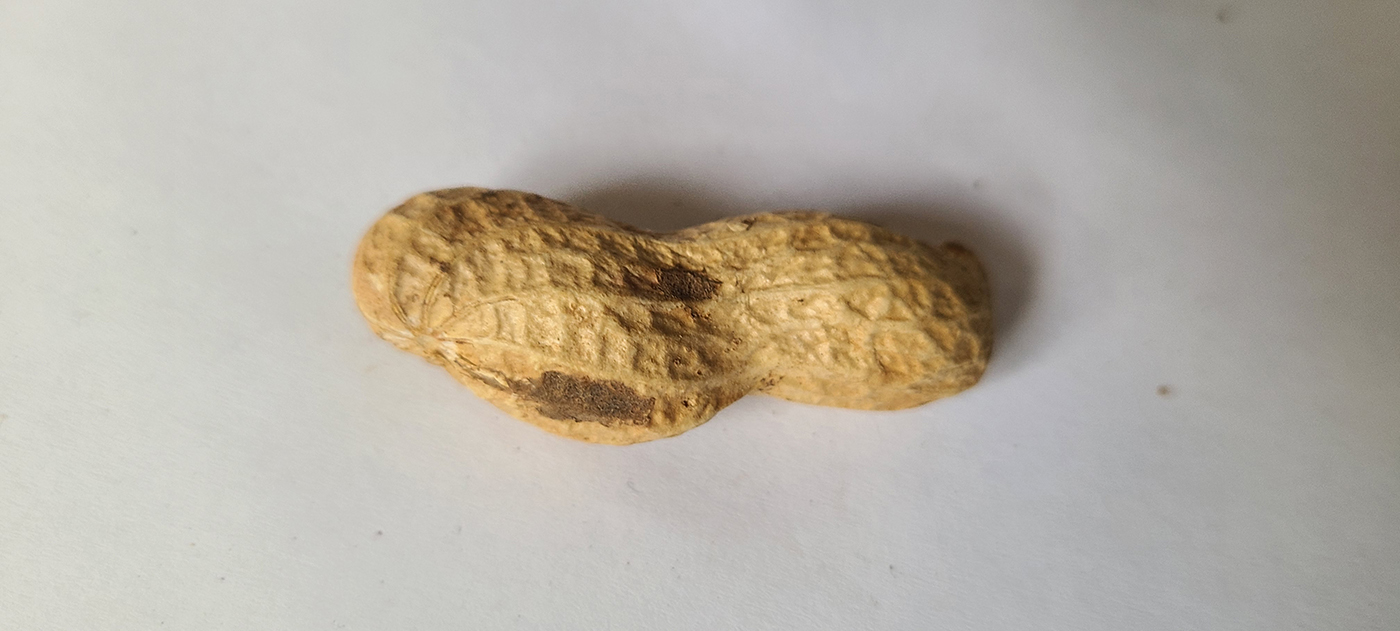h: (347, 184, 996, 448)
